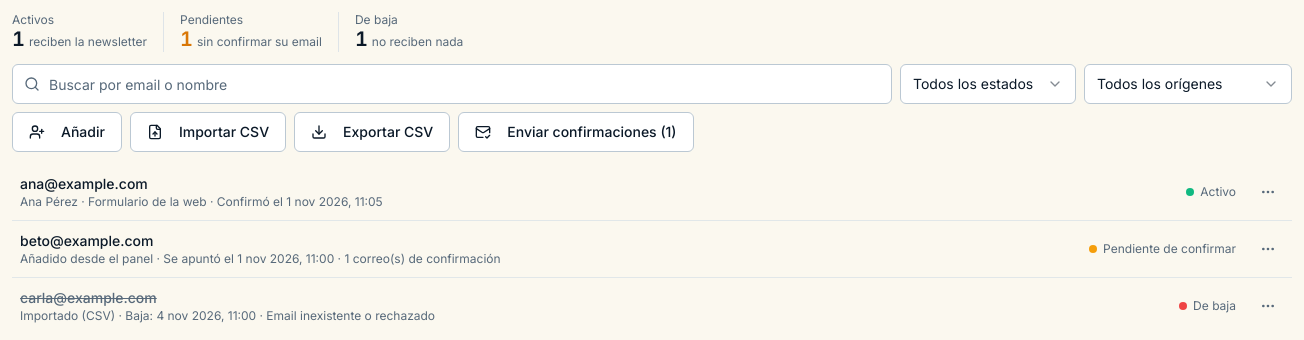
Test: GestionSuscriptores › cifras por estado y búsqueda sin tildes
Step 1. Type "perez" into the field named "Buscar suscriptores" → [452, 84], box [12,64,892,104]
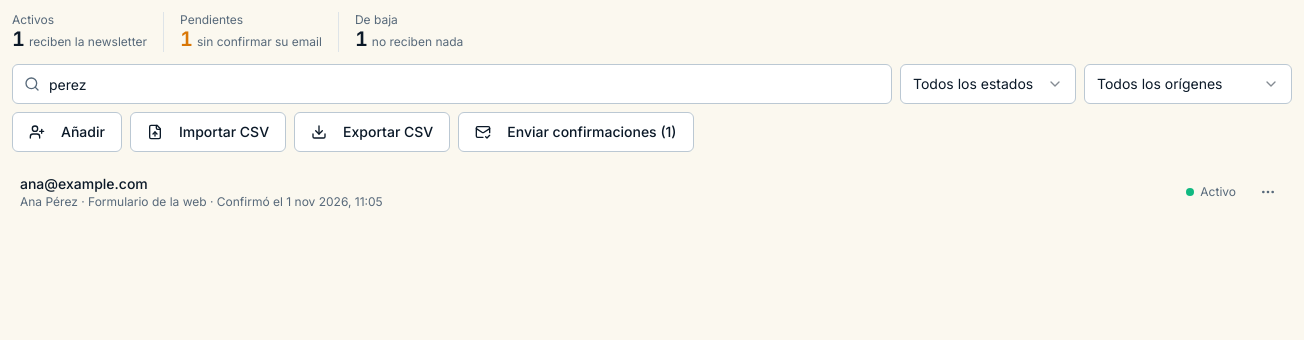
Step 2. Replace the text in the field named "Buscar suscriptores" with "nadie" → [452, 84], box [12,64,892,104]
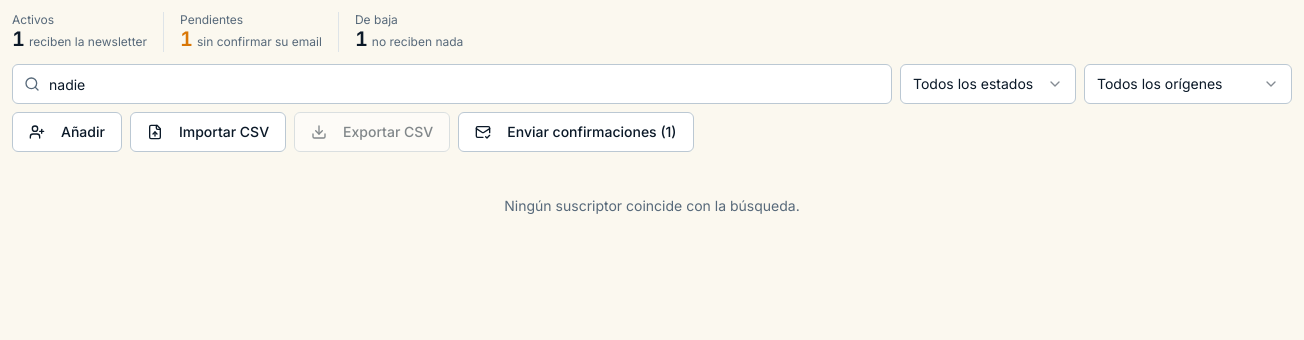
Now the text "Ningún suscriptor coincide con la búsqueda." is shown, box [504,197,800,214]
Now the button "Exportar CSV" is disabled, box [294,112,450,152]
